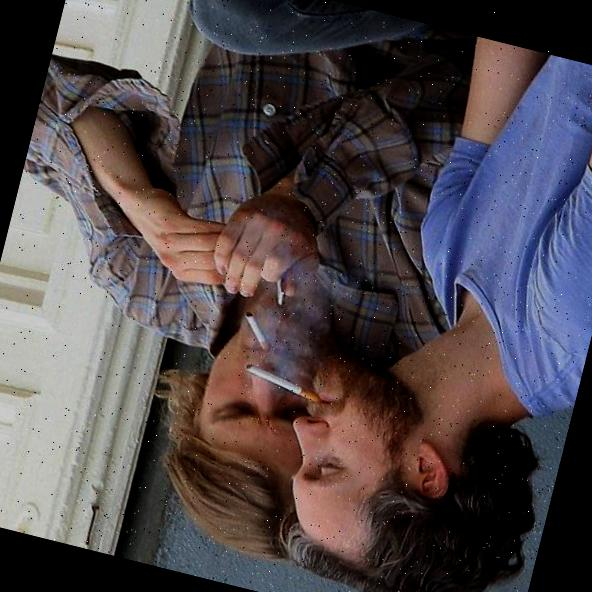smoke: (252, 256, 348, 375)
